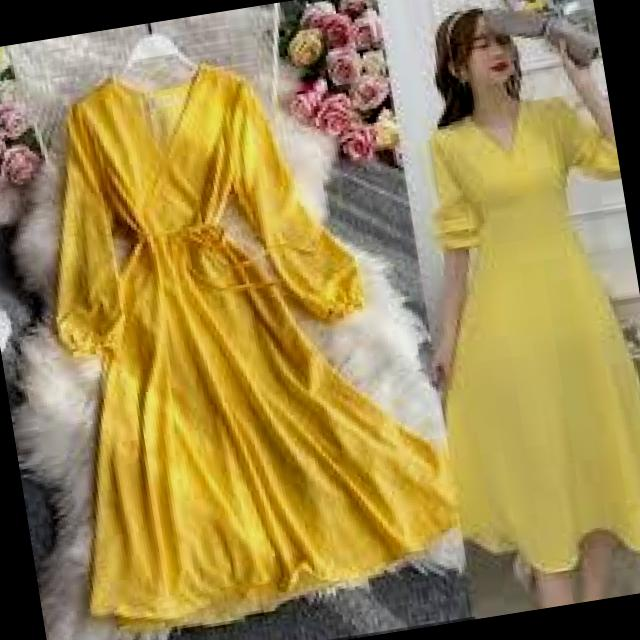dress: (33, 47, 458, 640), (392, 83, 640, 572)
